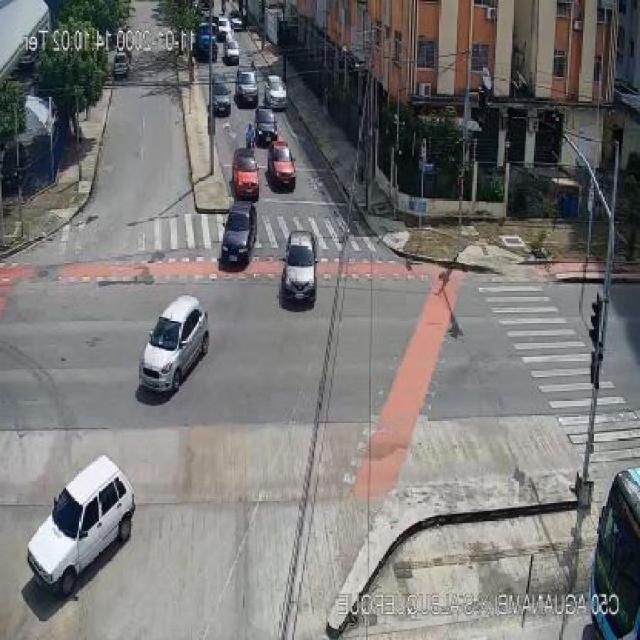Car: (27, 454, 136, 597), (138, 295, 208, 394), (280, 228, 320, 305), (218, 202, 260, 267), (232, 144, 259, 199), (270, 139, 296, 191), (234, 66, 261, 105), (212, 72, 233, 119), (254, 109, 280, 146), (263, 75, 287, 109), (225, 39, 242, 63), (218, 15, 232, 40)
